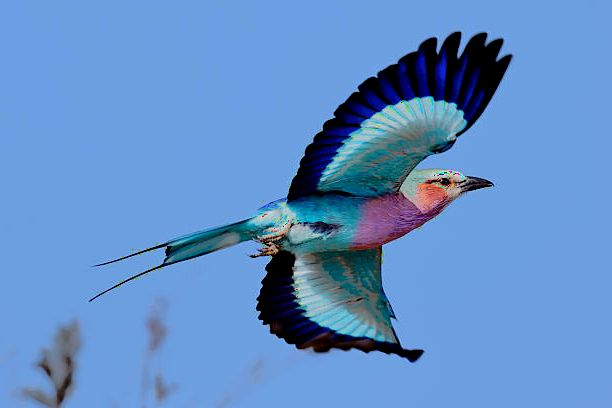Bird: (84, 25, 516, 365)
